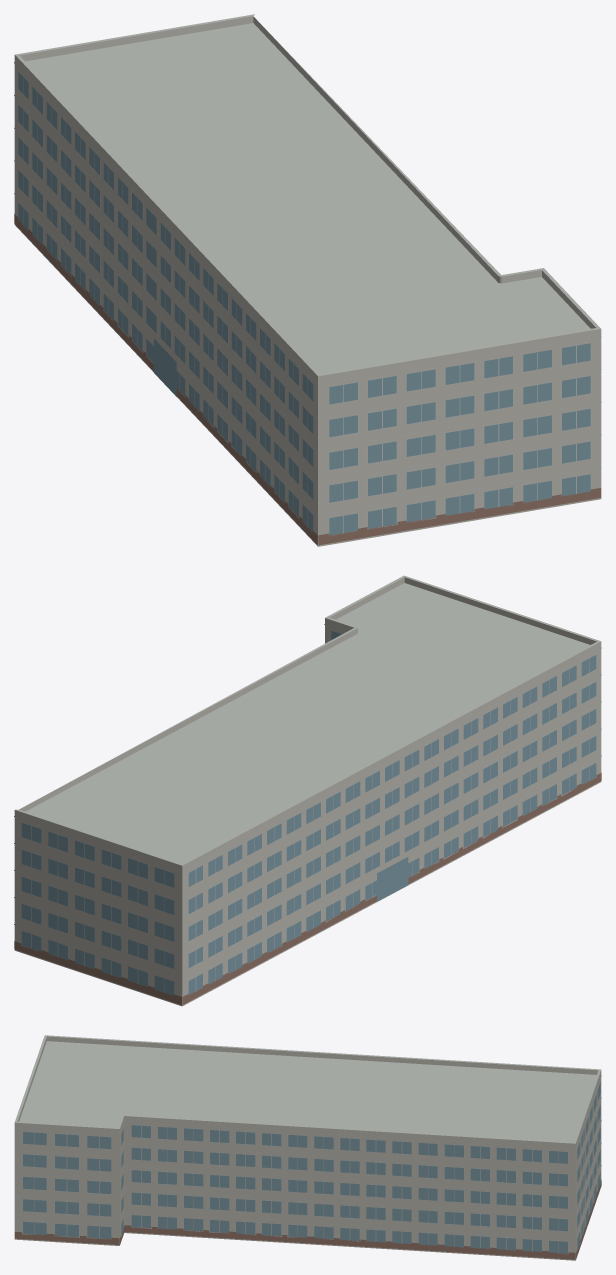
File: public-1484eccf-80dd-430d-b961-b286ce207497.glb
3 views of the same model, one above another, from view 1: azimuth 30°, elevation 25°; view 2: azimuth 150°, elevation 25°; view 3: azimuth 270°, elevation 25° (orthographic). The views are drawn at different scales.
Visible parts, largest first — view 1: public-1484eccf-80dd-430d-b961-b286ce207497; view 2: public-1484eccf-80dd-430d-b961-b286ce207497; view 3: public-1484eccf-80dd-430d-b961-b286ce207497.
Boxes of the visible parts, box(x1,y1,x2,y2) form: public-1484eccf-80dd-430d-b961-b286ce207497: box(14, 14, 601, 546); public-1484eccf-80dd-430d-b961-b286ce207497: box(14, 575, 601, 1006); public-1484eccf-80dd-430d-b961-b286ce207497: box(14, 1035, 601, 1260).
Bounding box in the file's own units: 30.48 × 15.25 × 69.46.
